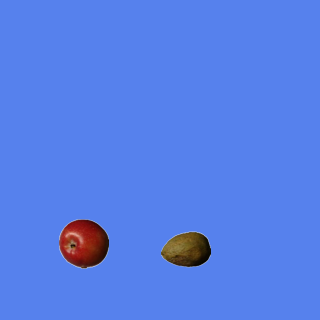Apple Braeburn: (58, 218, 108, 268)
Papaya: (160, 224, 210, 274)
